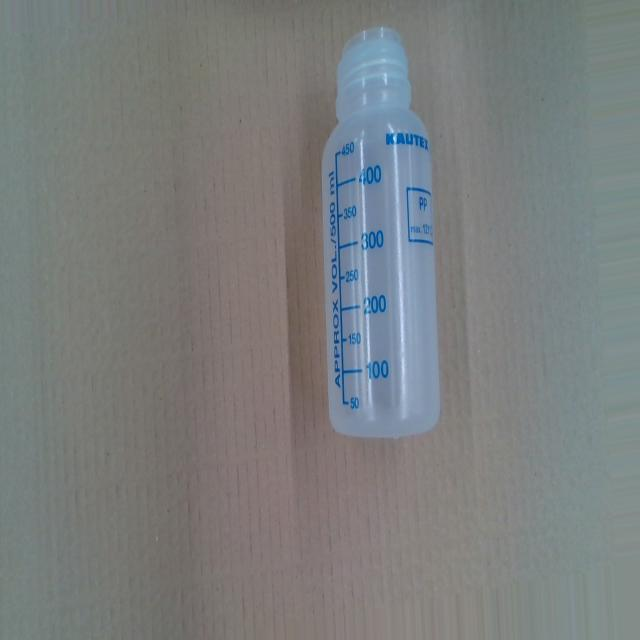bottle: (318, 22, 442, 440)
